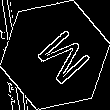M_SW: (22, 21, 88, 89)
